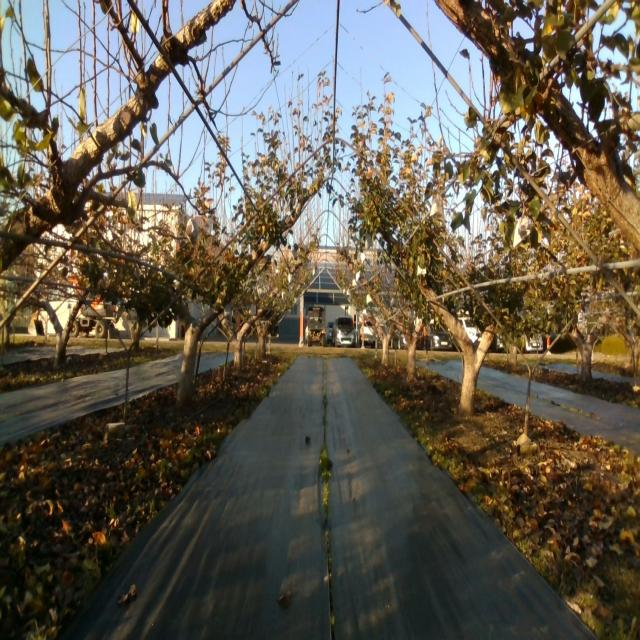pearbags: (513, 214, 534, 249), (185, 214, 199, 246), (429, 194, 446, 220)
